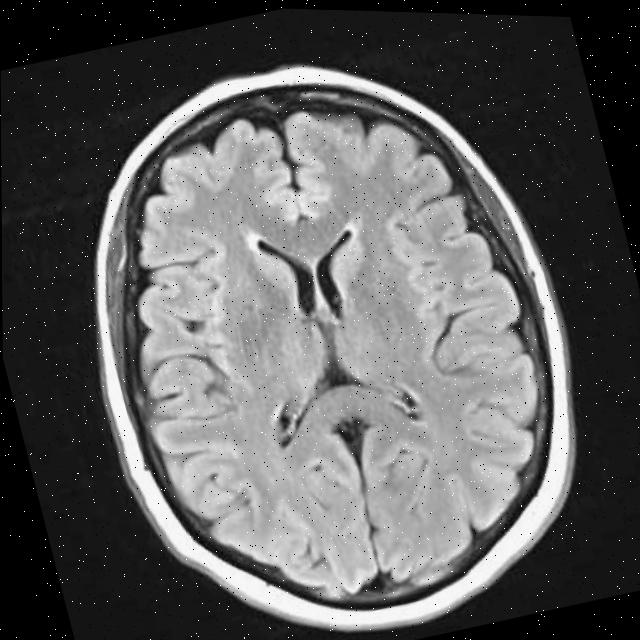NoTumor: (21, 1, 635, 640)
